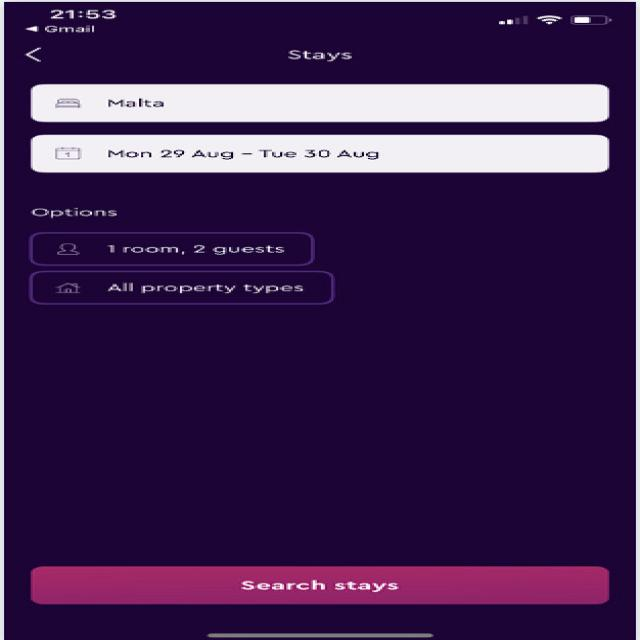button: (18, 556, 634, 610)
icon button: (4, 37, 84, 69)
input: (15, 75, 627, 127), (12, 130, 624, 178)
spacer: (18, 316, 599, 546)
